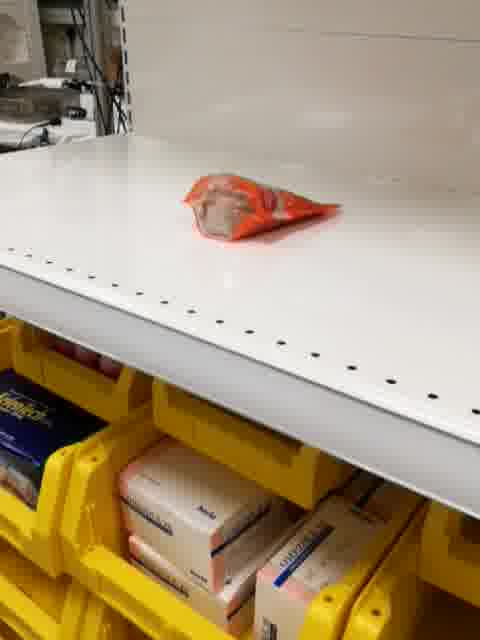whitechia: (179, 171, 344, 244)
